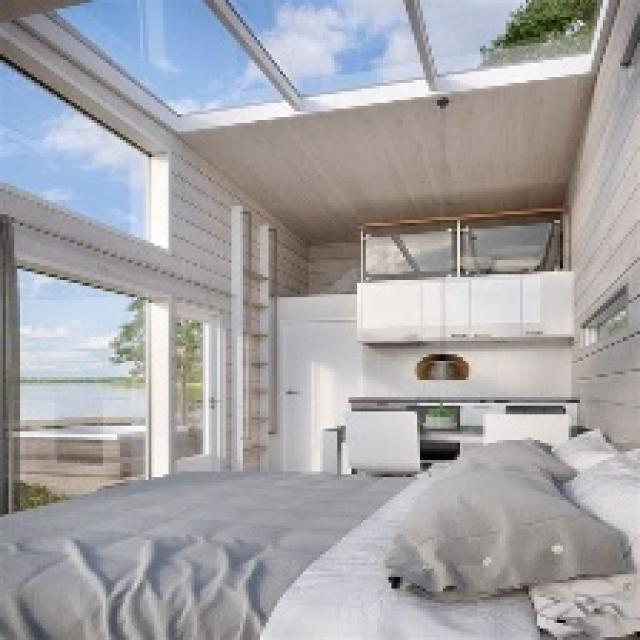Bed: (0, 429, 637, 637)
